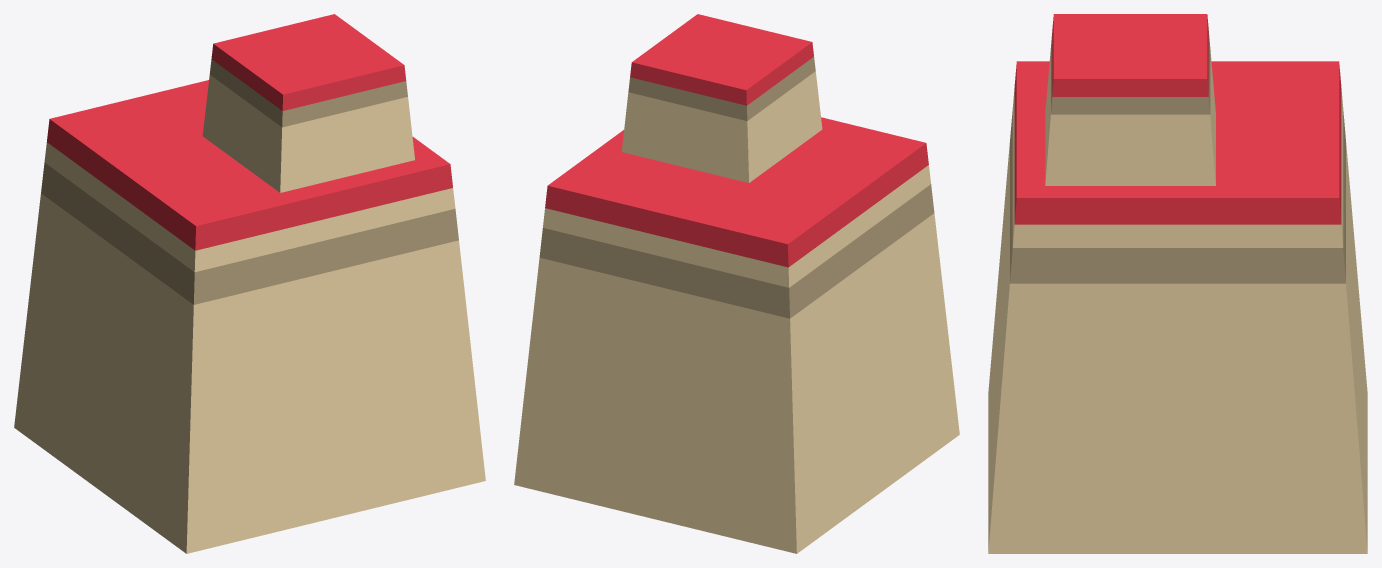
The model's file is House_17.fbx.
3 views of the same model, side by side, from view 1: azimuth 30°, elevation 25°; view 2: azimuth 150°, elevation 25°; view 3: azimuth 270°, elevation 25° (orthographic). The views are drawn at different scales.
Visible parts, largest first — view 1: House_17; view 2: House_17; view 3: House_17.
Part boxes in pixels (bbox=[...]): House_17: bbox=[14, 14, 485, 553]; House_17: bbox=[514, 14, 959, 553]; House_17: bbox=[988, 14, 1367, 553].
Bounding box in the file's own units: 200 × 260 × 200.
